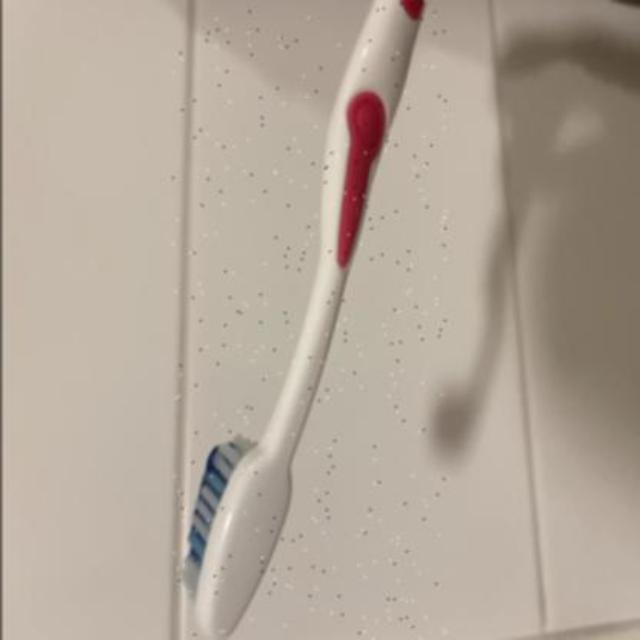toothbrush: (172, 0, 444, 640)
